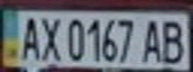0: (63, 15, 84, 62)
1: (84, 15, 103, 62)
6: (100, 16, 121, 63)
7: (115, 16, 139, 63)
A: (15, 12, 42, 61), (139, 16, 166, 64)
B: (157, 16, 190, 64)
X: (36, 14, 63, 62)
